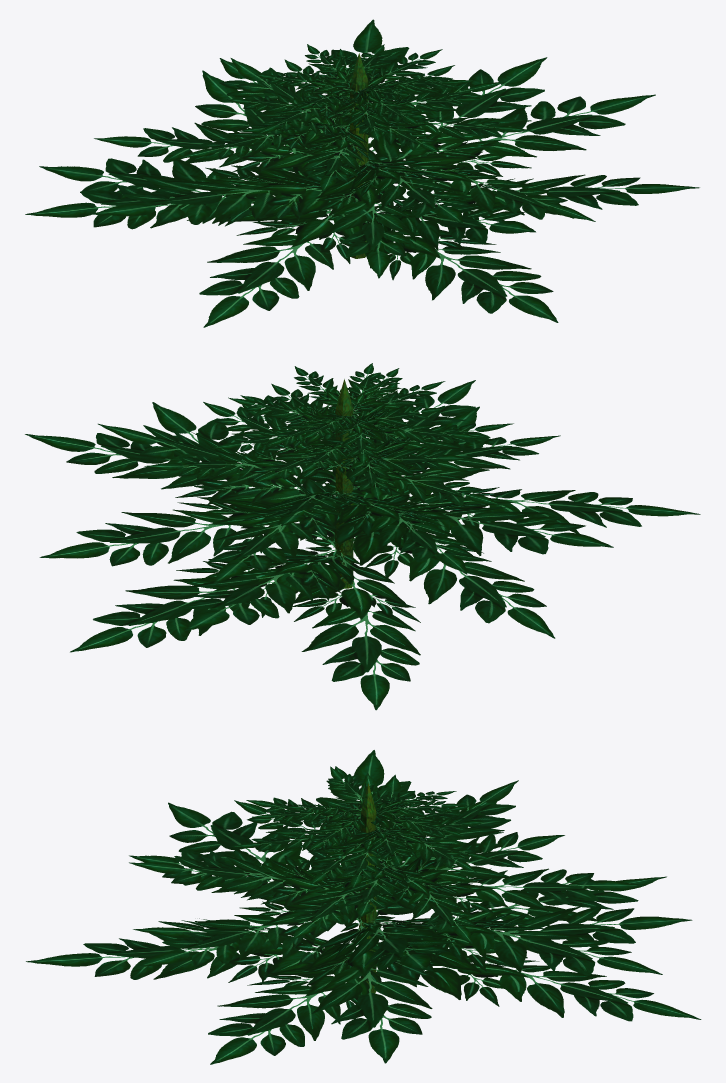
The model's file is busch.obj.
The picture shows the model from 3 angles, top to bottom: view 1: azimuth 30°, elevation 25°; view 2: azimuth 150°, elevation 25°; view 3: azimuth 270°, elevation 25°; orthographic projection. The views are drawn at different scales.
Visible parts, largest first — view 1: mesh0; view 2: mesh0; view 3: mesh0.
Part boxes in pixels (left/top/right/bottom): mesh0: left=25, top=19, right=699, bottom=327; mesh0: left=25, top=363, right=700, bottom=710; mesh0: left=26, top=750, right=701, bottom=1064.
Size of the model in its own units: 36.2 by 11.81 by 35.62.
Materials: 1 (1 with a texture image).
